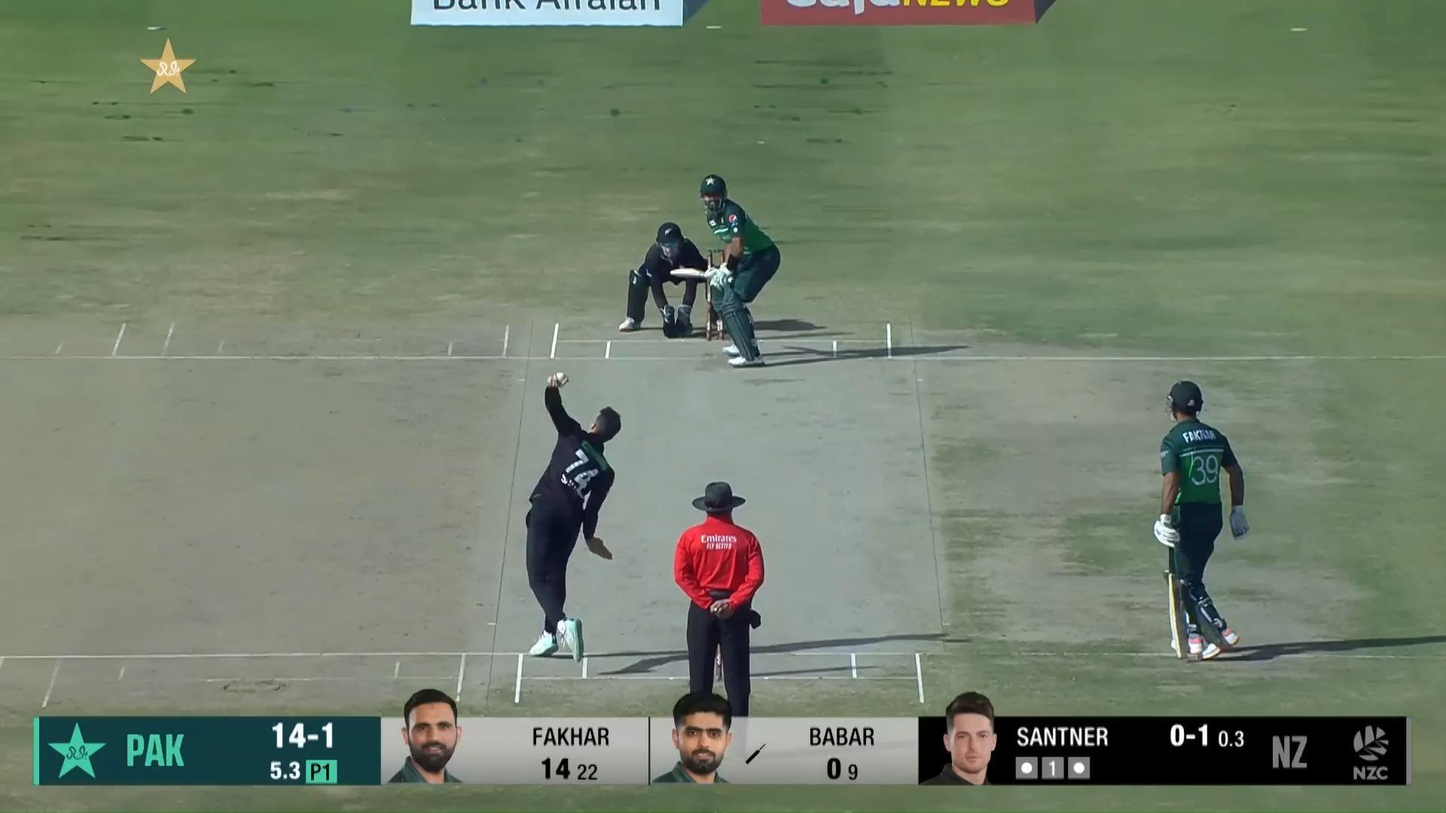BM 1: (668, 173, 781, 369)
BO: (524, 369, 623, 662)
